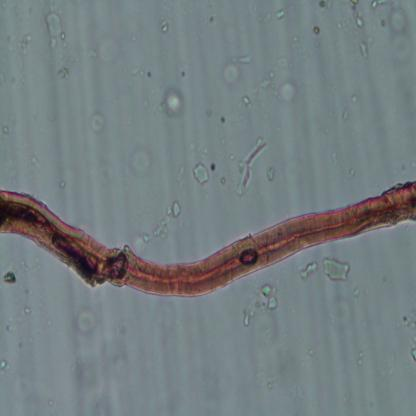Background material: (70, 341, 128, 414), (233, 137, 268, 195), (242, 282, 278, 336), (384, 2, 414, 64), (141, 200, 181, 243), (76, 35, 122, 70), (322, 292, 354, 332), (74, 294, 102, 338), (320, 252, 352, 286), (252, 359, 281, 392), (127, 142, 152, 180), (162, 85, 186, 121), (44, 12, 66, 50), (222, 60, 242, 88), (122, 62, 150, 82), (348, 0, 366, 30), (191, 162, 209, 186), (91, 109, 107, 136), (350, 340, 364, 369), (300, 262, 319, 282), (280, 80, 295, 105), (26, 152, 46, 170), (18, 32, 31, 59), (15, 299, 33, 318), (410, 307, 416, 361), (314, 1, 336, 15), (261, 70, 275, 92), (2, 269, 17, 286), (357, 42, 371, 60), (369, 0, 388, 11), (265, 166, 275, 182), (349, 91, 359, 107), (238, 53, 252, 64), (242, 95, 252, 110), (0, 358, 10, 373), (58, 69, 70, 81), (340, 108, 350, 122), (210, 156, 217, 172), (276, 9, 286, 20), (162, 19, 169, 33), (312, 25, 321, 35)
Cotton: (0, 182, 416, 298)
